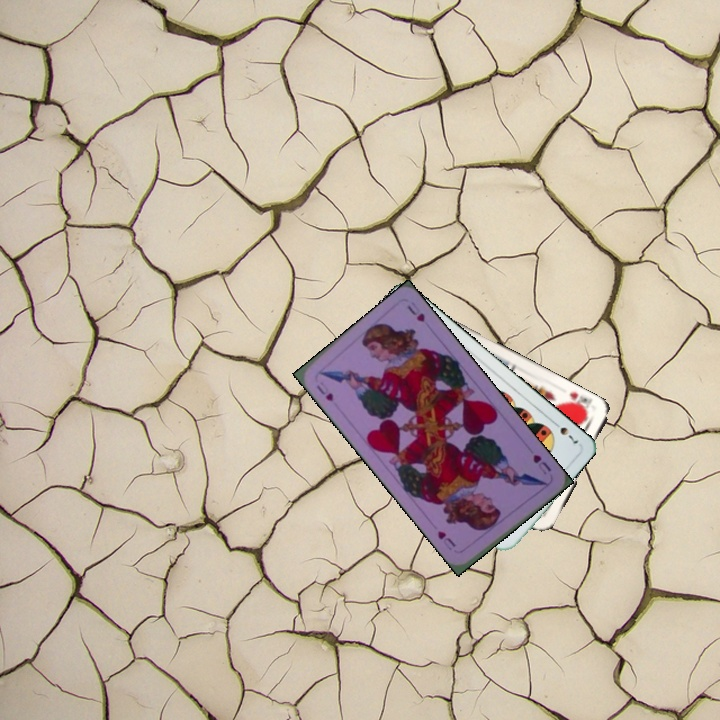HK: (562, 388, 591, 416)
HU: (529, 450, 554, 478), (312, 378, 336, 404)
S7: (548, 416, 581, 446)
